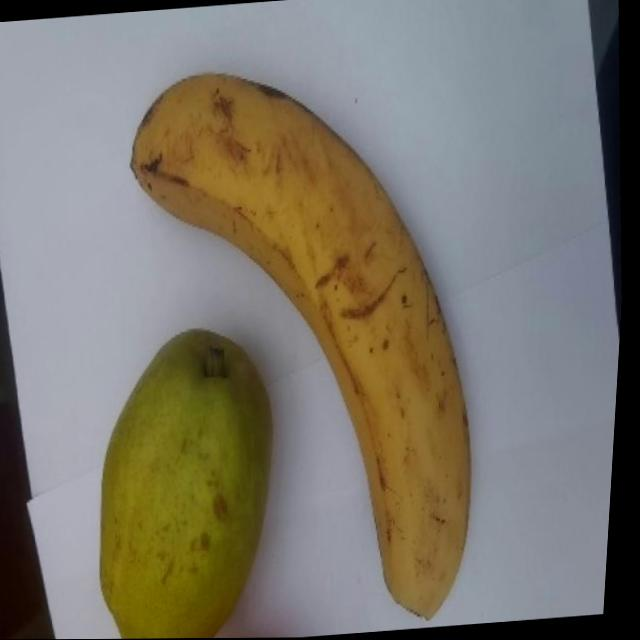Banana: (101, 51, 506, 639)
